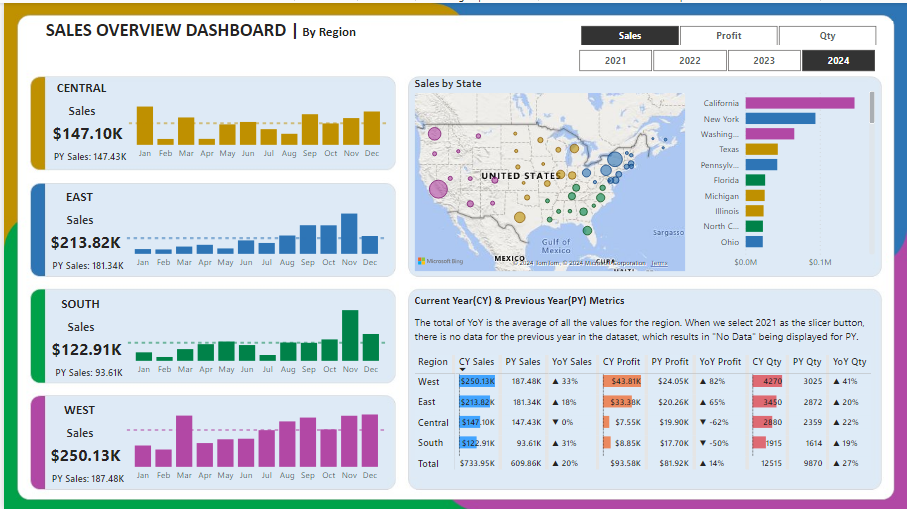

The page's visual inventory and layout, read from the dashboard file:
{"tool":"powerbi","page":{"name":"Page 1","canvas":[1280,720],"ordinal":0},"visuals":[{"type":"slicer","fields":{"Values":["Select Metric.Select Metric"]},"box":[791.8,25.2,468,41.9],"z":0},{"type":"card","fields":{"Values":["Sales Data.Total Sales"]},"box":[59.5,164.4,117.6,41.1],"z":0,"group":"g1"},{"type":"card","fields":{"Values":["Sales Data.Total Sales"]},"box":[57,319.2,117.6,41.1],"z":0,"group":"g2"},{"type":"card","fields":{"Values":["Sales Data.Total Sales"]},"box":[58.7,470.2,117.6,41.1],"z":0,"group":"g3"},{"type":"card","fields":{"Values":["Sales Data.Total Sales"]},"box":[57,621.2,117.6,41.1],"z":0,"group":"g4"},{"type":"slicer","fields":{"Values":["Calendar Table.Year"]},"box":[789.4,59.5,469.1,43.9],"z":1000},{"type":"textbox","box":[59.5,103.5,100.6,34],"z":1000,"group":"g1"},{"type":"textbox","box":[57,258.3,100.6,34],"z":1000,"group":"g2"},{"type":"textbox","box":[58.7,409.3,100.6,34],"z":1000,"group":"g3"},{"type":"textbox","box":[57,560.3,100.6,34],"z":1000,"group":"g4"},{"type":"textbox","box":[28.5,16.8,501.6,50.3],"z":2000},{"type":"card","fields":{"Values":["Sales Data.Dynamic Title"]},"box":[73.7,133.3,73.7,41.1],"z":2000,"group":"g1"},{"type":"card","fields":{"Values":["Sales Data.Dynamic Title"]},"box":[71.2,288.1,73.7,41.1],"z":2000,"group":"g2"},{"type":"card","fields":{"Values":["Sales Data.Dynamic Title"]},"box":[72.9,439.1,73.7,41.1],"z":2000,"group":"g3"},{"type":"card","fields":{"Values":["Sales Data.Dynamic Title"]},"box":[71.2,590.1,73.7,41.1],"z":2000,"group":"g4"},{"type":"group","id":"g1","title":"Group 1","box":[59.5,103.5,490.4,127.6],"z":3000},{"type":"card","fields":{"Values":["Sales Data.PY KPI Sales"]},"box":[59.5,205.5,124.7,25.5],"z":3000,"group":"g1"},{"type":"card","fields":{"Values":["Sales Data.PY KPI Sales"]},"box":[57,360.3,124.7,25.5],"z":3000,"group":"g2"},{"type":"card","fields":{"Values":["Sales Data.PY KPI Sales"]},"box":[58.7,511.3,124.7,25.5],"z":3000,"group":"g3"},{"type":"card","fields":{"Values":["Sales Data.PY KPI Sales"]},"box":[57,662.3,124.7,25.5],"z":3000,"group":"g4"},{"type":"clusteredColumnChart","fields":{"Y":["Sales Data.Total Sales"],"Category":["Calendar Table.Month"]},"box":[171.5,112,378.4,119.1],"z":4000,"group":"g1"},{"type":"group","id":"g2","title":"Group 1","box":[57,258.3,491.5,127.5],"z":4000},{"type":"clusteredColumnChart","fields":{"Y":["Sales Data.Total Sales"],"Category":["Calendar Table.Month"]},"box":[169,266.8,378.4,119.1],"z":4000,"group":"g2"},{"type":"clusteredColumnChart","fields":{"Y":["Sales Data.Total Sales"],"Category":["Calendar Table.Month"]},"box":[170.7,417.8,378.4,119.1],"z":4000,"group":"g3"},{"type":"clusteredColumnChart","fields":{"Y":["Sales Data.Total Sales"],"Category":["Calendar Table.Month"]},"box":[169,568.8,378.4,119.1],"z":4000,"group":"g4"},{"type":"group","id":"g3","title":"Group 1","box":[58.7,409.3,491.5,127.5],"z":5000},{"type":"group","id":"g4","title":"Group 1","box":[57,560.3,491.5,127.5],"z":6000},{"type":"map","title":"Sales by State","fields":{"Size":["Sales Data.Total Sales"],"Category":["Sales Data.State/Province"],"Series":["Sales Data.Region"]},"box":[577.1,104,394.2,281.8],"z":7000},{"type":"barChart","fields":{"Y":["Sales Data.Total Sales"],"Category":["Sales Data.State/Province"],"Series":["Sales Data.Region"]},"box":[971.3,112.4,268.4,273.4],"z":8000},{"type":"pivotTable","fields":{"Rows":["Sales Data.Region"],"Values":["Sales Data.CY Sales","Sales Data.PY Sales","Sales Data.YoY Sales","Sales Data.CY Profit","Sales Data.PY Profit","Sales Data.YoY Profit","Sales Data.CY Qty","Sales Data.PY Qty","Sales Data.YoY Qty"]},"box":[577.1,492.9,662.9,195.7],"z":9000},{"type":"textbox","box":[577.1,407.1,311.4,35.7],"z":10000},{"type":"textbox","box":[577.1,438.6,662.9,72.9],"z":11000}]}

Visuals, with their boxes in screenshot pixels (x1, y1, x2, y2), scaled from the page's 1280x720 canvas onto the 907x509 screenshot:
slicer - Select Metric.Select Metric: bbox(561, 18, 893, 47)
card - Sales Data.Total Sales: bbox(42, 116, 125, 145)
card - Sales Data.Total Sales: bbox(40, 226, 124, 255)
card - Sales Data.Total Sales: bbox(42, 332, 125, 361)
card - Sales Data.Total Sales: bbox(40, 439, 124, 468)
slicer - Calendar Table.Year: bbox(559, 42, 892, 73)
textbox: bbox(42, 73, 113, 97)
textbox: bbox(40, 183, 112, 207)
textbox: bbox(42, 289, 113, 313)
textbox: bbox(40, 396, 112, 420)
textbox: bbox(20, 12, 376, 47)
card - Sales Data.Dynamic Title: bbox(52, 94, 104, 123)
card - Sales Data.Dynamic Title: bbox(50, 204, 103, 233)
card - Sales Data.Dynamic Title: bbox(52, 310, 104, 339)
card - Sales Data.Dynamic Title: bbox(50, 417, 103, 446)
"Group 1" group: bbox(42, 73, 390, 163)
card - Sales Data.PY KPI Sales: bbox(42, 145, 131, 163)
card - Sales Data.PY KPI Sales: bbox(40, 255, 129, 273)
card - Sales Data.PY KPI Sales: bbox(42, 361, 130, 379)
card - Sales Data.PY KPI Sales: bbox(40, 468, 129, 486)
clusteredColumnChart - Sales Data.Total Sales x Calendar Table.Month: bbox(122, 79, 390, 163)
"Group 1" group: bbox(40, 183, 389, 273)
clusteredColumnChart - Sales Data.Total Sales x Calendar Table.Month: bbox(120, 189, 388, 273)
clusteredColumnChart - Sales Data.Total Sales x Calendar Table.Month: bbox(121, 295, 389, 380)
clusteredColumnChart - Sales Data.Total Sales x Calendar Table.Month: bbox(120, 402, 388, 486)
"Group 1" group: bbox(42, 289, 390, 379)
"Group 1" group: bbox(40, 396, 389, 486)
"Sales by State" map: bbox(409, 74, 688, 273)
barChart - Sales Data.Total Sales x Sales Data.State/Province: bbox(688, 79, 878, 273)
pivotTable - Sales Data.Region x Sales Data.CY Sales: bbox(409, 348, 879, 487)
textbox: bbox(409, 288, 630, 313)
textbox: bbox(409, 310, 879, 362)
